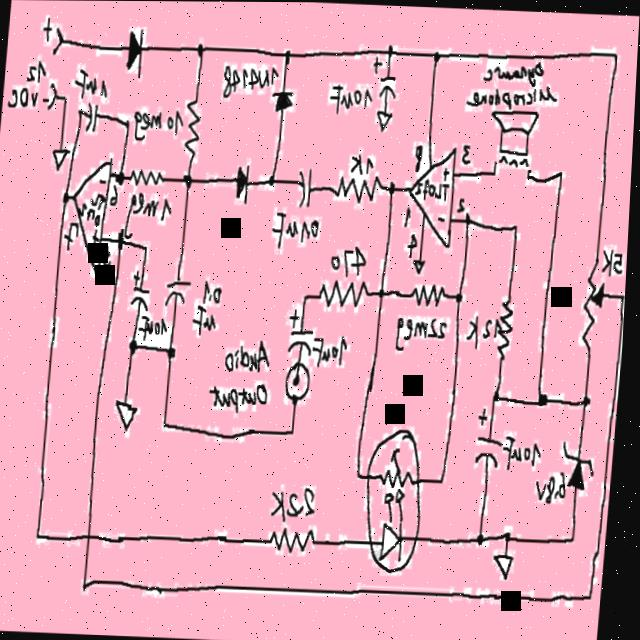capacitor: (474, 405, 514, 471), (289, 308, 321, 357), (371, 54, 401, 105), (132, 270, 157, 311), (167, 274, 197, 305), (299, 163, 318, 208), (86, 100, 101, 134)
crossover: (89, 524, 101, 543)
diode: (564, 441, 603, 490), (231, 157, 257, 205), (125, 25, 148, 76), (271, 85, 300, 120)
ground: (117, 396, 143, 431), (497, 549, 522, 578), (52, 144, 72, 171), (376, 107, 396, 132), (415, 255, 430, 274)
junction: (540, 387, 555, 407), (169, 341, 183, 361), (118, 228, 130, 250), (480, 527, 493, 547), (85, 574, 97, 594), (132, 334, 143, 353), (185, 170, 197, 187), (585, 390, 597, 407), (495, 387, 507, 404), (442, 470, 454, 486), (269, 170, 280, 187), (196, 41, 207, 58), (118, 168, 128, 185), (457, 289, 468, 304), (466, 209, 476, 225), (63, 188, 73, 204), (390, 178, 399, 195), (386, 41, 396, 56), (380, 283, 390, 298), (125, 115, 135, 130), (166, 414, 176, 429), (39, 527, 49, 542), (360, 465, 370, 480), (612, 47, 621, 62), (285, 46, 293, 61), (620, 287, 628, 302), (574, 531, 583, 544), (434, 47, 442, 61), (510, 527, 518, 541), (559, 165, 567, 179), (145, 239, 153, 253), (293, 424, 302, 436), (514, 219, 522, 232), (593, 588, 601, 601), (78, 104, 85, 118), (306, 289, 313, 302), (63, 90, 70, 103)
resistor: (581, 257, 613, 349), (272, 521, 326, 556), (319, 275, 373, 310), (497, 293, 520, 361), (335, 171, 385, 202), (184, 94, 205, 159), (413, 279, 451, 307), (130, 163, 170, 188)
terminal: (287, 355, 317, 404), (46, 80, 60, 116), (54, 20, 66, 56)
text: (122, 188, 178, 247), (268, 204, 326, 256), (394, 310, 455, 358), (225, 329, 278, 381), (465, 80, 559, 107), (222, 61, 282, 98), (275, 480, 324, 524), (212, 376, 274, 410), (133, 106, 187, 144), (475, 56, 551, 83), (502, 431, 551, 471), (469, 309, 507, 352), (315, 331, 354, 368), (331, 83, 376, 114), (72, 66, 111, 100), (332, 242, 373, 274), (538, 468, 575, 503), (195, 299, 226, 340), (6, 82, 42, 113), (80, 189, 109, 224), (418, 177, 454, 201), (141, 314, 174, 339), (603, 243, 629, 274), (205, 277, 227, 306), (352, 151, 377, 174), (27, 58, 48, 83), (66, 220, 83, 249), (409, 230, 423, 256), (42, 15, 55, 43), (415, 141, 426, 171), (104, 242, 116, 266), (462, 141, 474, 163), (111, 182, 123, 204), (405, 202, 415, 228), (458, 194, 470, 213), (93, 227, 104, 247), (443, 162, 453, 179), (438, 212, 450, 224), (99, 176, 110, 187), (44, 94, 51, 101)
